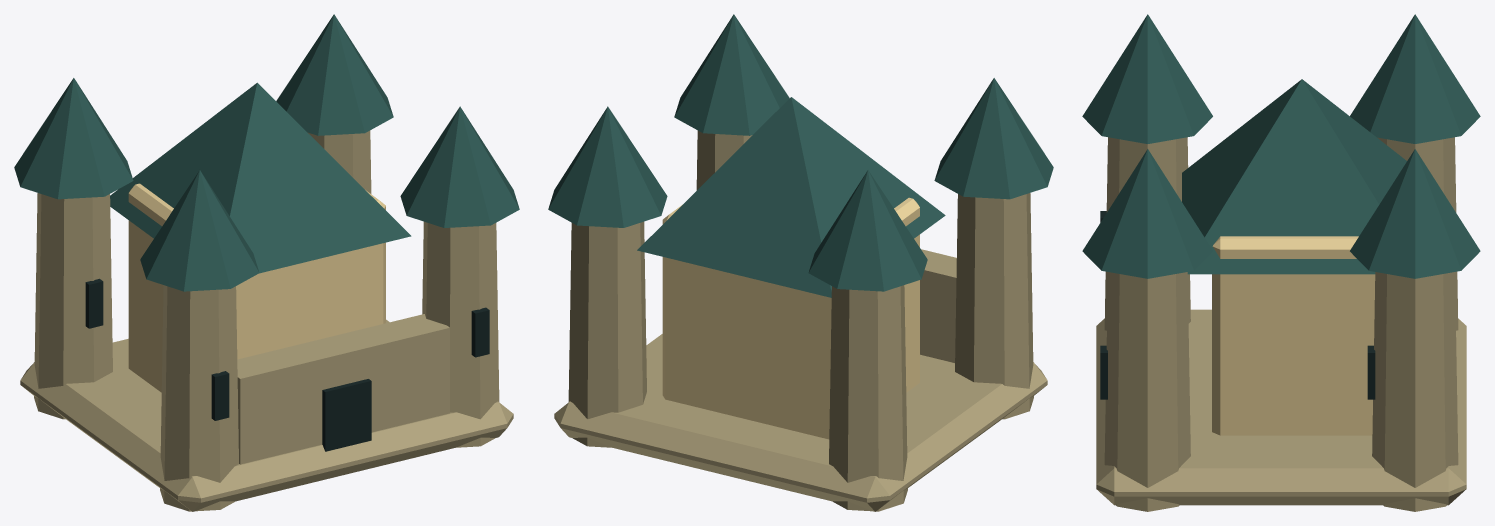
The model's file is citadel.glb.
The picture shows the model from 3 angles, left to right: view 1: azimuth 30°, elevation 25°; view 2: azimuth 150°, elevation 25°; view 3: azimuth 270°, elevation 25°; orthographic projection. The views are drawn at different scales.
Parts seen in each view (by area): view 1: citadel; view 2: citadel; view 3: citadel.
Part boxes in pixels (box(x1,y1,x2,y2)): citadel: box(14, 14, 519, 511); citadel: box(548, 14, 1053, 511); citadel: box(1082, 14, 1480, 511).
Size of the model in its own units: 0.875 by 0.745 by 0.775.
